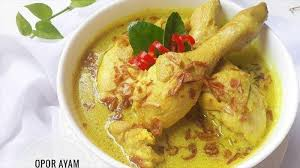Opor ayam: (70, 0, 286, 168)
